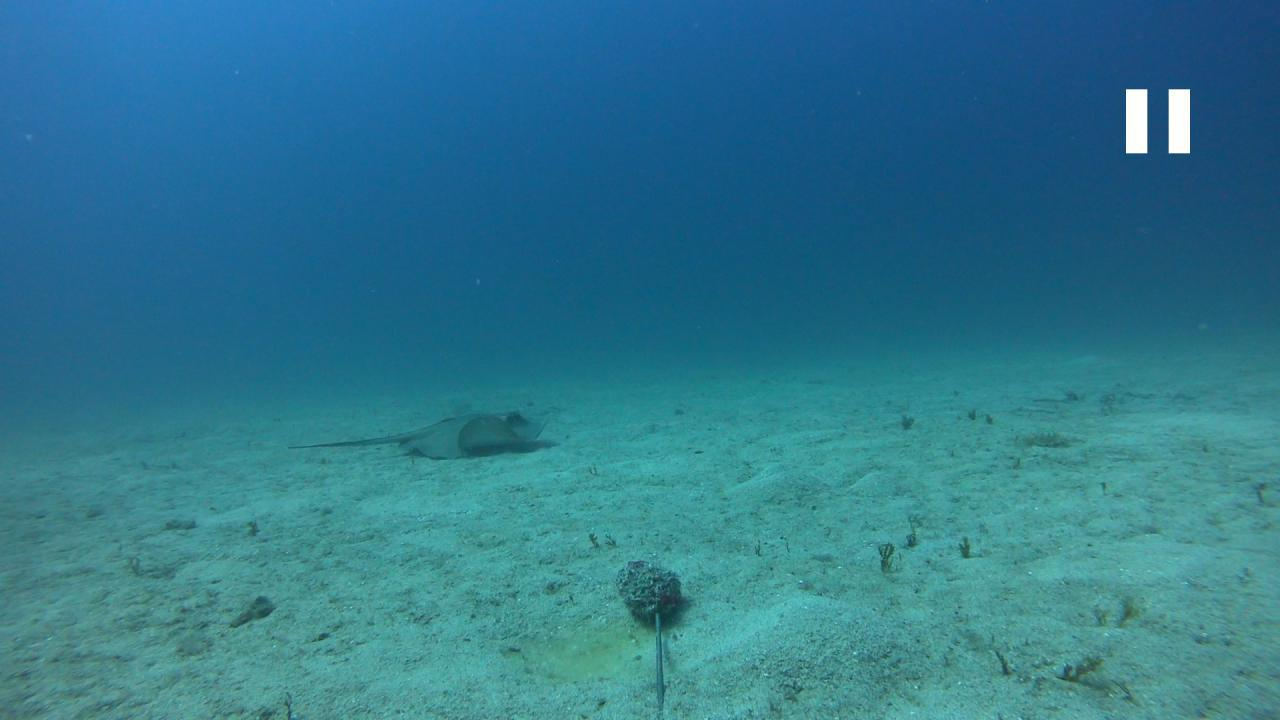dasyatis: (281, 410, 552, 459)
